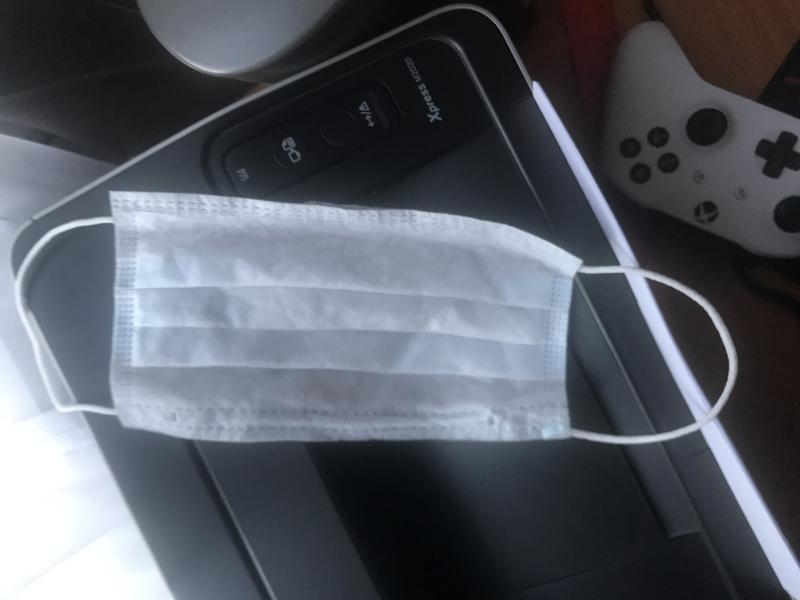medical_mask: (13, 192, 737, 448)
